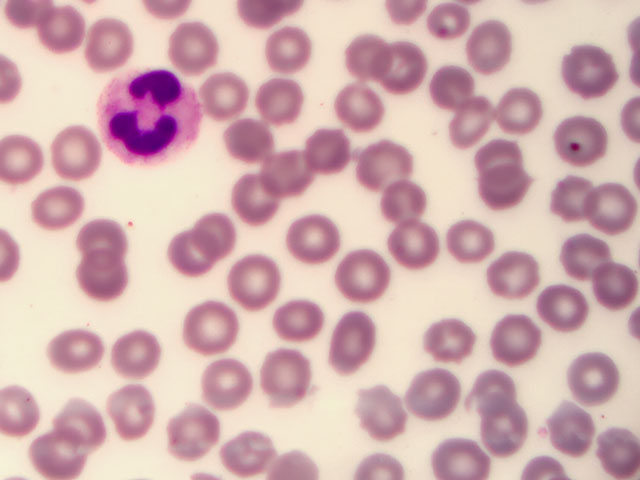RBC: (38, 3, 90, 56), (83, 15, 135, 68), (166, 23, 218, 76), (195, 65, 247, 118), (217, 107, 269, 160), (54, 126, 106, 179), (32, 180, 84, 233), (76, 211, 128, 264), (81, 255, 133, 308), (52, 321, 104, 374), (107, 330, 159, 383), (108, 387, 160, 440), (57, 395, 109, 448), (30, 427, 82, 480), (164, 407, 216, 460), (202, 358, 254, 411), (179, 304, 231, 357), (230, 253, 282, 306), (159, 231, 211, 284), (196, 207, 248, 260), (225, 177, 277, 230), (263, 147, 315, 200), (298, 126, 350, 179), (258, 76, 310, 129), (259, 18, 311, 71), (345, 30, 397, 83), (378, 37, 430, 90), (329, 80, 381, 133), (355, 138, 407, 191), (380, 173, 432, 226), (385, 217, 437, 270), (328, 249, 380, 302), (285, 217, 337, 270), (273, 293, 325, 346), (256, 349, 308, 402), (326, 319, 378, 372), (218, 424, 270, 477), (352, 383, 404, 436), (409, 364, 461, 417), (425, 312, 477, 365), (493, 309, 545, 362), (483, 254, 535, 307), (445, 214, 497, 267), (478, 168, 530, 221), (475, 131, 527, 184), (443, 91, 495, 144), (432, 63, 484, 116), (462, 23, 514, 76), (423, 1, 475, 54), (497, 87, 549, 140), (550, 118, 602, 171), (563, 44, 615, 97), (541, 170, 593, 223), (580, 174, 632, 227), (558, 235, 610, 288), (587, 259, 639, 312), (534, 280, 586, 333), (568, 349, 620, 402), (547, 404, 599, 457), (588, 427, 640, 480), (483, 409, 535, 462), (465, 363, 517, 416), (432, 427, 484, 480), (1, 134, 52, 187)
WBC: (90, 66, 205, 167)
